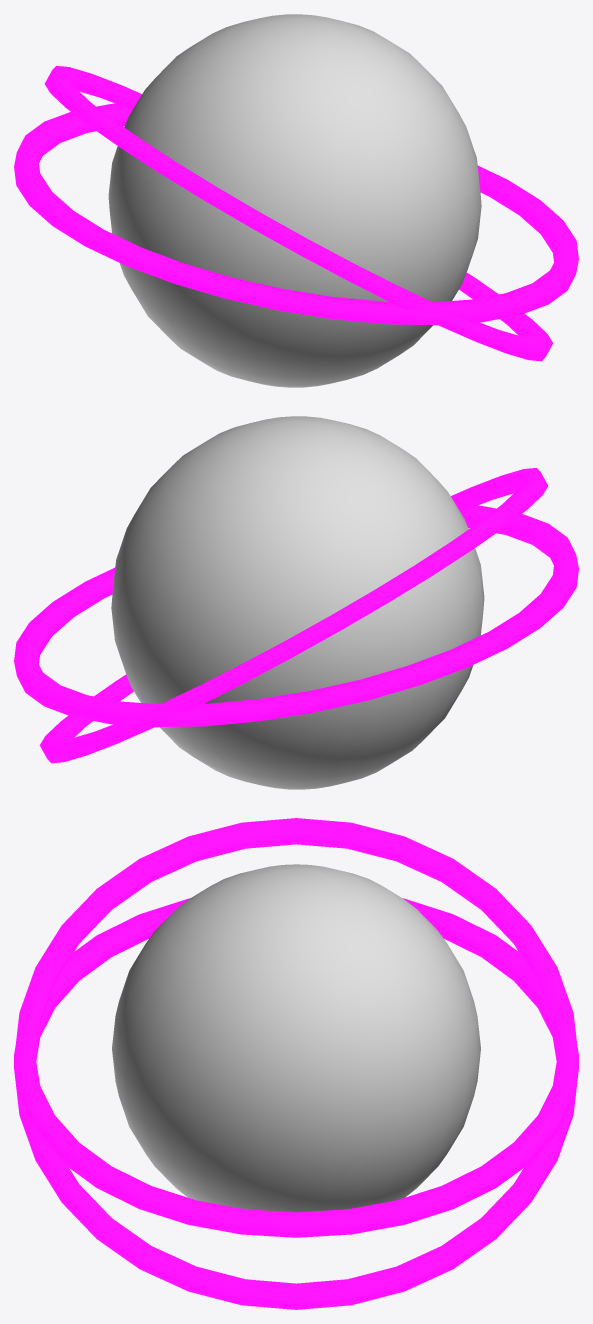
Rendered from PX_AssetsNey 1.fbx.
The picture shows the model from 3 angles, top to bottom: view 1: azimuth 30°, elevation 25°; view 2: azimuth 150°, elevation 25°; view 3: azimuth 270°, elevation 25°; orthographic projection.
Visible parts, largest first — view 1: Sphere, Circle.001, Circle; view 2: Sphere, Circle.001, Circle; view 3: Sphere, Circle, Circle.001.
Boxes of the visible parts, box(x1,y1,x2,y2) form: Sphere: box(108, 14, 481, 387); Circle.001: box(14, 103, 578, 325); Circle: box(44, 66, 553, 361); Sphere: box(111, 416, 484, 789); Circle.001: box(14, 505, 578, 727); Circle: box(39, 468, 548, 763); Sphere: box(112, 864, 480, 1212); Circle: box(14, 818, 578, 1309); Circle.001: box(14, 898, 578, 1237).
Size of the model in its own units: 1170 by 776 by 1188.
